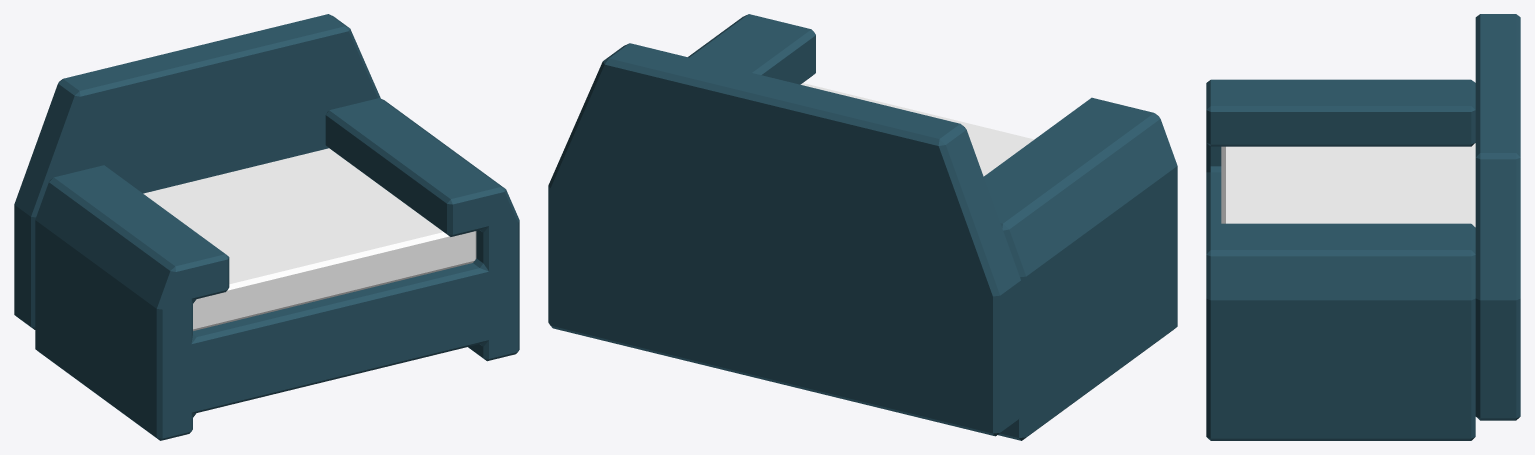
Rendered from Sofa 1 Small.glb.
The picture shows the model from 3 angles, left to right: view 1: azimuth 30°, elevation 25°; view 2: azimuth 150°, elevation 25°; view 3: azimuth 270°, elevation 25°; orthographic projection. The views are drawn at different scales.
Visible parts, largest first — view 1: Sofa 1 Small; view 2: Sofa 1 Small; view 3: Sofa 1 Small.
Part boxes in pixels (x1,y1,x2,y2): Sofa 1 Small: [14, 14, 519, 440]; Sofa 1 Small: [548, 14, 1177, 440]; Sofa 1 Small: [1206, 14, 1520, 440].
Size of what is drawn, in the model's own units: 1.52 by 0.9906 by 1.07.
1 material, 1 textured.
